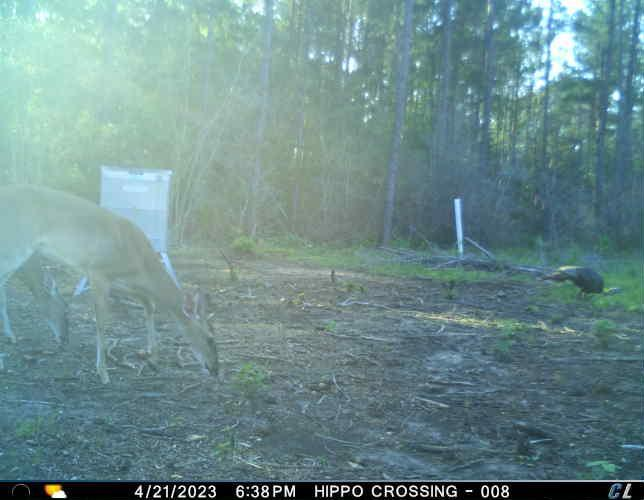Deer: (0, 179, 223, 386), (14, 250, 71, 344)
